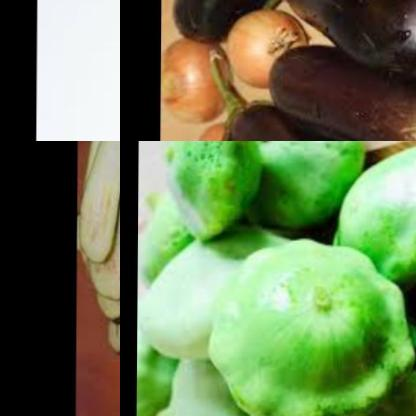eggplant: (264, 42, 416, 141), (260, 0, 416, 71), (75, 141, 120, 366), (203, 95, 400, 141), (162, 0, 389, 33)
onion: (224, 7, 306, 94), (159, 34, 232, 125)
squash-patisson: (198, 232, 414, 416), (140, 221, 260, 374), (327, 141, 416, 288), (244, 141, 355, 237), (157, 141, 257, 244), (239, 369, 416, 416), (155, 351, 265, 416)
